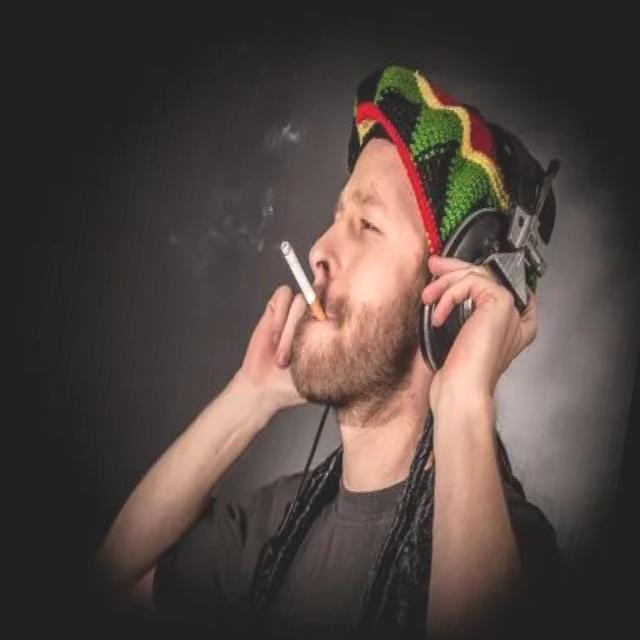cigarette: (266, 232, 341, 326)
